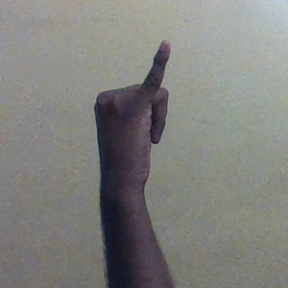I: (94, 40, 175, 190)
